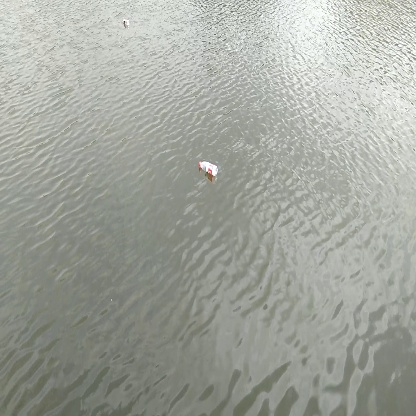bottle: (197, 159, 222, 182)
